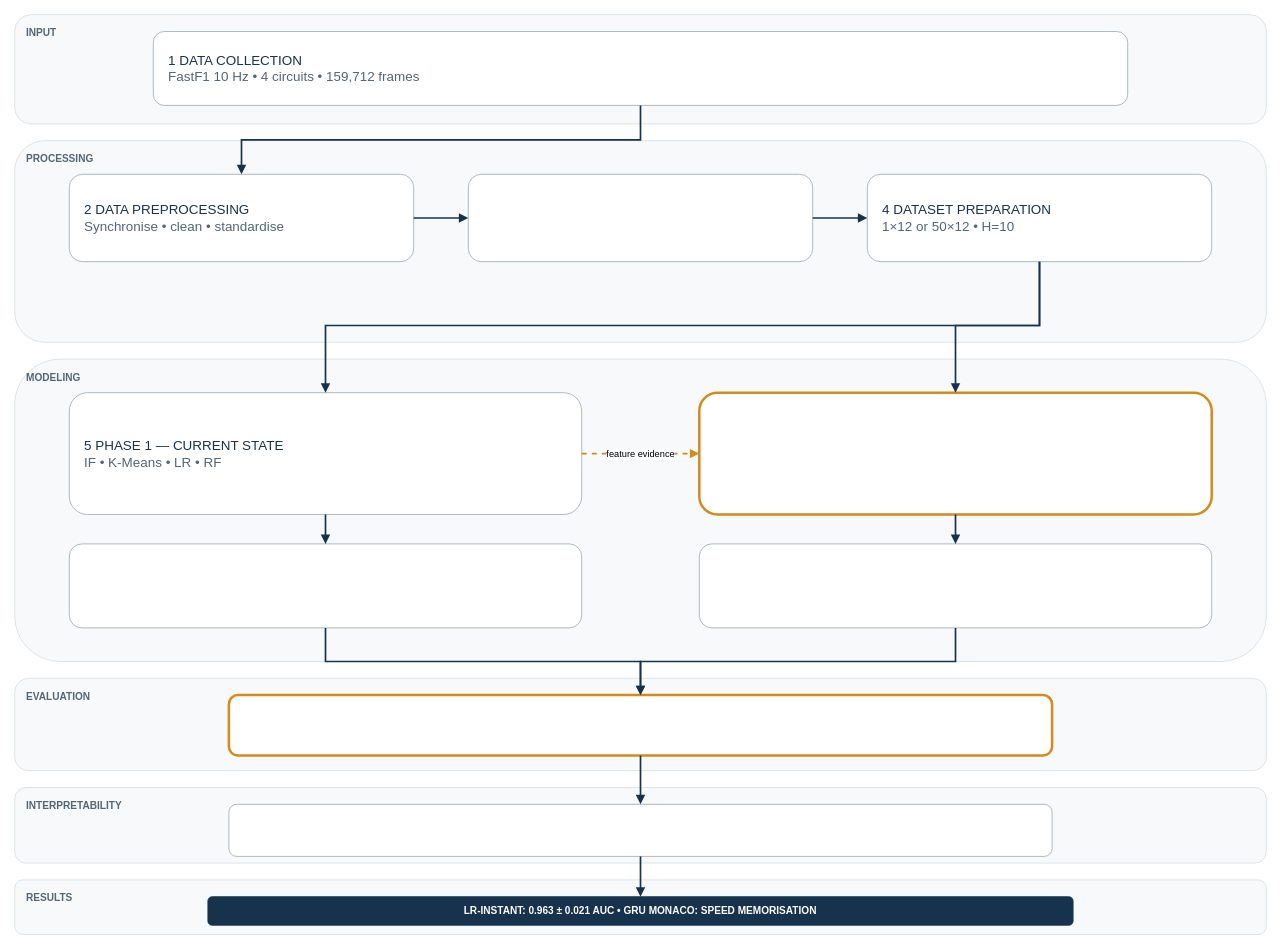
Image size: 1281x949. Some labels were removed from this diagram. The centre of each missing label's shape, as x and y in pixels:
"10 EXPLAINABILITY Permutation importance • IG • attention" belongs at point 640,829.
"3 FEATURE ENGINEERING Telemetry + physics • X/Z target" belongs at point 640,217.
"6 PHASE 2 — ANTICIPATORY MODELS 8 models • 1 s-ahead prediction" belongs at point 955,453.
"7 TRAINING Classical • AdamW/focal loss" belongs at point 325,585.
"8 VALIDATION 75/25 within training circuits" belongs at point 955,585.
"9 LOCO CROSS-CIRCUIT EVALUATION 4 folds • AUC/F1 • bootstrap 95% CI" belongs at point 640,724.
